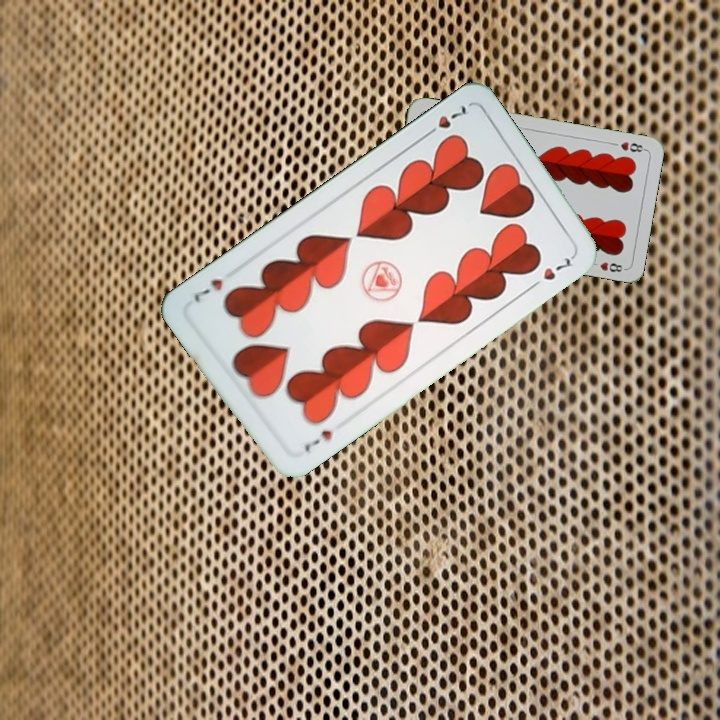H7: (419, 101, 471, 141), (300, 425, 335, 455)
H8: (616, 137, 648, 155)
